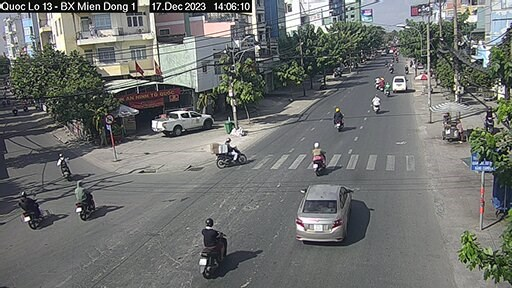car: (295, 181, 352, 243), (148, 107, 216, 139), (391, 75, 409, 97)
motorbike: (193, 220, 232, 280), (211, 136, 248, 167), (21, 192, 45, 230), (73, 189, 98, 221), (332, 105, 351, 132), (312, 140, 328, 172), (52, 153, 72, 177), (369, 91, 388, 115)
